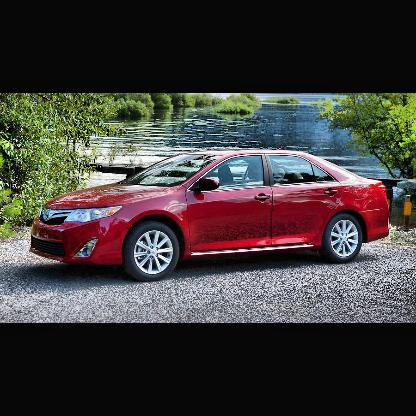Toyota Camry Sedan 2012: (30, 149, 390, 282)
